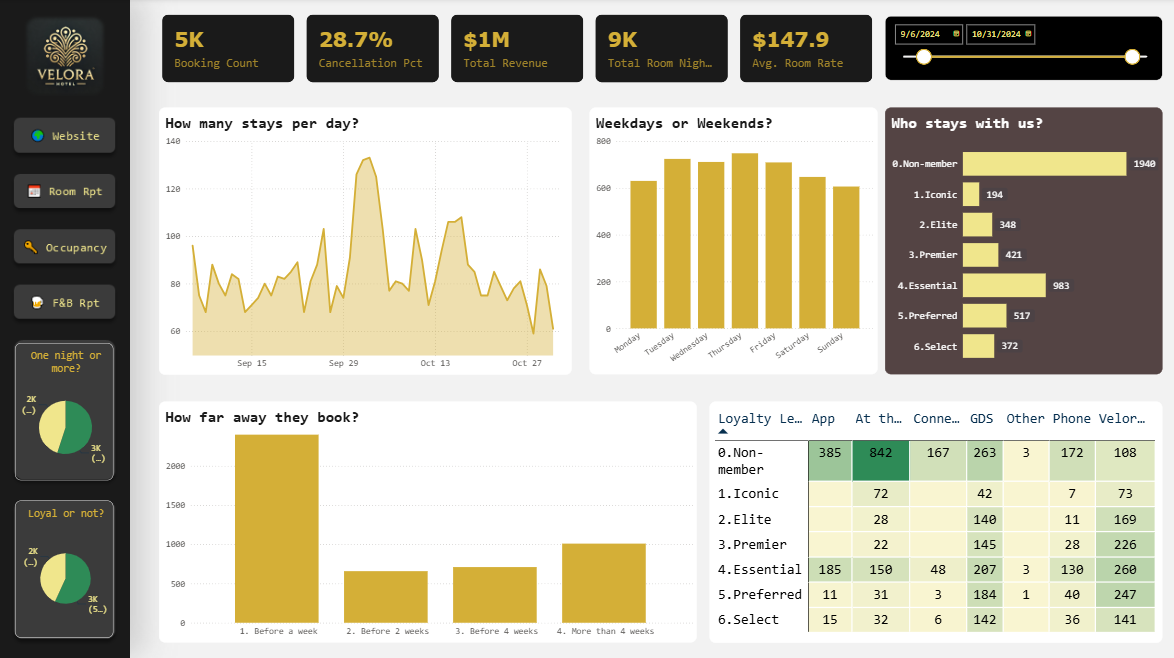

This screenshot's page, from the dashboard's own definition file:
{"tool":"powerbi","page":{"name":"Bookings Report","canvas":[1920,1080],"ordinal":0},"visuals":[{"type":"cardVisual","fields":{"Data":["bookings.Booking Count","bookings.Cancellation Pct","bookings.Total Revenue","bookings.Total Room Nights","bookings.Avg. Room Rate"]},"box":[258,22,1168,120],"z":0},{"type":"lineChart","title":"How many stays per day?","fields":{"Y":["bookings.Booking Count"],"Category":["bookings.Stay Date"]},"box":[258.2,179.2,671.4,434.4],"z":1000},{"type":"slicer","fields":{"Values":["bookings.Stay Date"]},"box":[1439.5,29.3,451.4,104.9],"z":2000},{"type":"clusteredColumnChart","title":"Weekdays or Weekends?","fields":{"Y":["bookings.Booking Count"],"Category":["bookings.Day Name"]},"box":[958.8,178.1,468.4,434.3],"z":3000},{"type":"clusteredBarChart","title":"Who stays with us?","fields":{"Category":["bookings.Loyalty Level"],"Y":["bookings.Booking Count"]},"box":[1439,178,451,434],"z":4000},{"type":"clusteredColumnChart","title":"How far away they book?","fields":{"Category":["bookings.How far away bucket"],"Y":["bookings.Booking Count"]},"box":[258.2,656.2,874.9,391.9],"z":5000},{"type":"pivotTable","fields":{"Rows":["bookings.Loyalty Level"],"Columns":["bookings.Booking Channel"],"Values":["bookings.Booking Count"]},"box":[1154,656.3,736.8,392.8],"z":6000},{"type":"pieChart","title":"One night or more?","fields":{"Y":["bookings.Multi-night booking count","bookings.Single night booking count"]},"box":[24.4,560,160,223.3],"z":7000},{"type":"pieChart","title":"Loyal or not?","fields":{"Y":["bookings.Loyal Customer Booking Count","bookings.Single night booking count"]},"box":[24.4,817.8,160,223.3],"z":8000}]}

Visuals, with their boxes on the page's 1920x1080 design canvas (x1, y1, x2, y2). These are canvas units, not pixel positions in the 1174x658 screenshot, which may show the page scaled, cropped or inside an application window:
cardVisual - bookings.Booking Count x bookings.Cancellation Pct: bbox=(258, 22, 1426, 142)
"How many stays per day?" lineChart: bbox=(258, 179, 930, 614)
slicer - bookings.Stay Date: bbox=(1440, 29, 1891, 134)
"Weekdays or Weekends?" clusteredColumnChart: bbox=(959, 178, 1427, 612)
"Who stays with us?" clusteredBarChart: bbox=(1439, 178, 1890, 612)
"How far away they book?" clusteredColumnChart: bbox=(258, 656, 1133, 1048)
pivotTable - bookings.Loyalty Level x bookings.Booking Channel: bbox=(1154, 656, 1891, 1049)
"One night or more?" pieChart: bbox=(24, 560, 184, 783)
"Loyal or not?" pieChart: bbox=(24, 818, 184, 1041)
